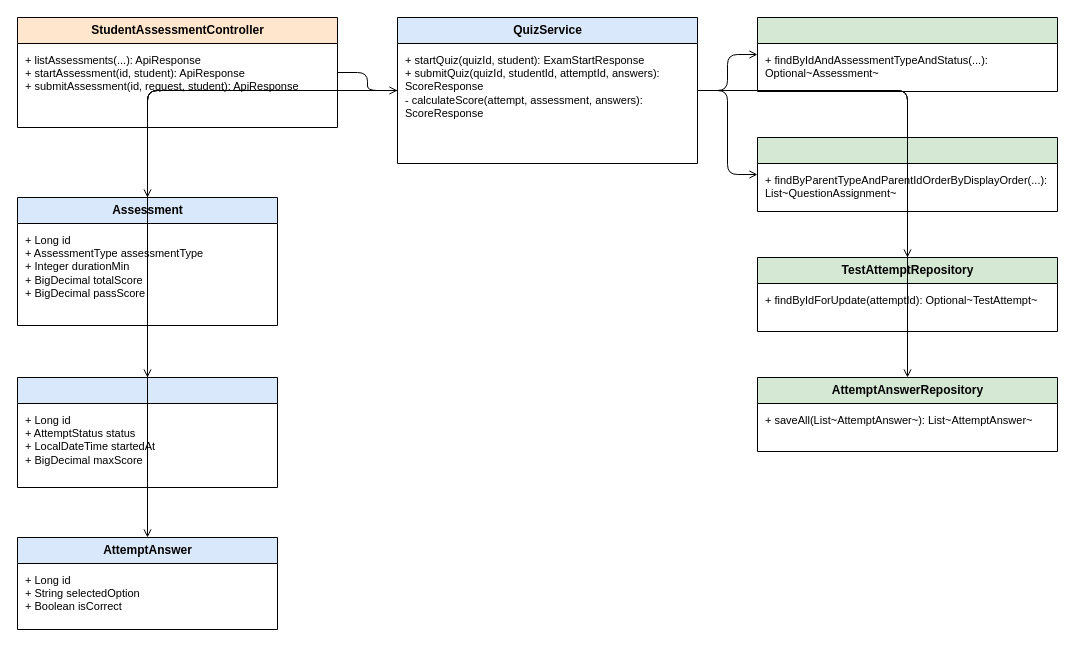
Some shapes in this 1075 by 650 pixel diagram are drawn without their labels. The box of each missing label's shape, as (x1, y1, x2, y2) in pixels:
AssessmentRepository: (756, 16, 1058, 92)
QuestionAssignmentRepository: (756, 136, 1058, 212)
TestAttempt: (16, 376, 278, 488)
